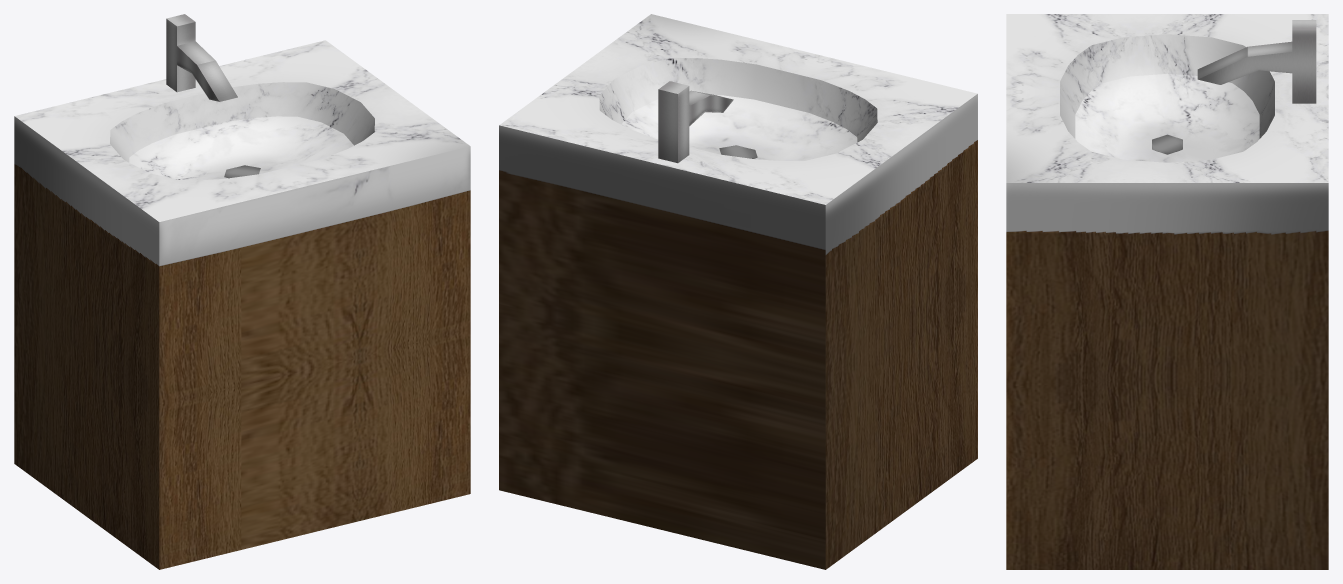
Rendered from Sink.FBX.
3 renders of one model, left to right at view 1: azimuth 30°, elevation 25°; view 2: azimuth 150°, elevation 25°; view 3: azimuth 270°, elevation 25°, orthographic. The views are drawn at different scales.
Parts seen in each view (by area): view 1: Box072, Box073; view 2: Box072, Box073; view 3: Box072, Box073.
Boxes of the visible parts, x1,y1,x2,y2 form: Box072: (14,40,470,569); Box073: (166,14,237,101); Box072: (499,14,977,569); Box073: (658,81,733,163); Box072: (1006,14,1328,569); Box073: (1197,20,1316,103).
Bounding box in the file's own units: 20 × 25.4 × 16.13.
Materials: 2 (2 with a texture image).
